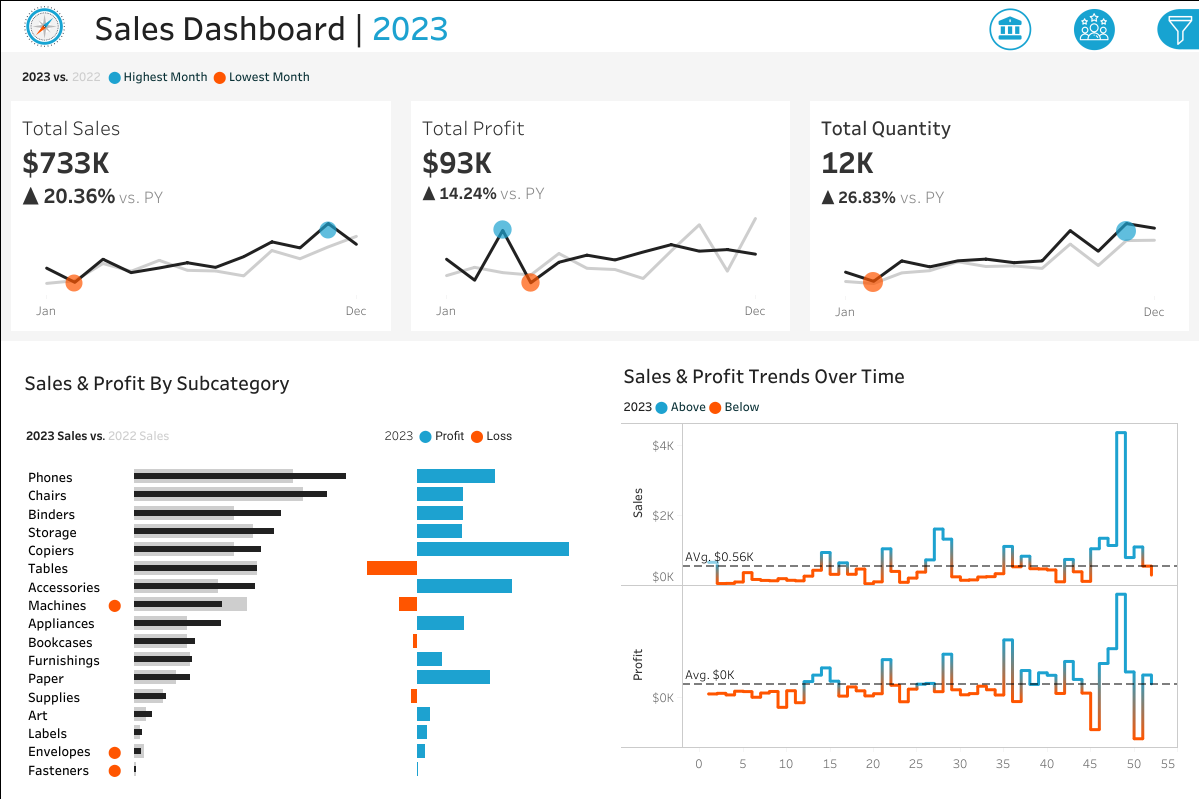

The page's visual inventory and layout, read from the dashboard file:
{"tool":"tableau","page":{"name":"Sales Dashboard","canvas":[1200,800],"ordinal":1},"visuals":[{"type":"image","param":"Image/Icon - Logo.png","box":[0,0,73,59]},{"type":"text","box":[73,0,820,59]},{"type":"dashboard-object","box":[940,6,91,70]},{"type":"dashboard-object","box":[1031,6,91,70]},{"type":"blank","box":[952,10,237,86]},{"type":"worksheet","title":"Legend KPI","mark":"Automatic","box":[0,59,1200,29]},{"type":"worksheet","title":"KPI Sales","mark":"Automatic","rows":["Calculation_721701895347843083"],"cols":["Order Date"],"box":[0,88,400,284]},{"type":"worksheet","title":"KPI Profit","mark":"Automatic","rows":["Min/Max Sales (copy)_237846410425847814"],"cols":["Order Date"],"box":[400,88,400,284]},{"type":"worksheet","title":"KPI Quantity","mark":"Automatic","rows":["Min/Max Sales (copy) (copy)_237846410425856007"],"cols":["Order Date"],"box":[800,88,400,284]},{"type":"text","box":[952,96,237,37]},{"type":"parameter","param":"[Parameters].[Parameter 1]","box":[952,133,237,55]},{"type":"text","box":[952,188,237,32]},{"type":"filter","title":"KPI Sales","param":"[federated.1kpxa041aiai2y1cl4pui1t4eju9].[none:Category:nk]","box":[952,220,237,57]},{"type":"filter","title":"KPI Sales","param":"[federated.1kpxa041aiai2y1cl4pui1t4eju9].[none:Sub-Category:nk]","box":[952,277,237,57]},{"type":"blank","box":[952,334,237,60]},{"type":"text","box":[17,389,566,40]},{"type":"text","box":[617,389,566,40]},{"type":"text","box":[952,394,237,32]},{"type":"filter","title":"KPI Sales","param":"[federated.1kpxa041aiai2y1cl4pui1t4eju9].[none:Region:nk]","box":[952,426,237,57]},{"type":"worksheet","title":"Legend Subcategory","mark":"Automatic","box":[17,429,374,32]},{"type":"text","box":[391,429,192,32]},{"type":"text","box":[617,429,566,29]},{"type":"worksheet","title":"Weekly Trends","mark":"Automatic","rows":["Calculation_721701895334993921","CY Sales (copy)_237846410424180736"],"cols":["Order Date"],"box":[617,458,566,325]},{"type":"worksheet","title":"Subcategory Comparison","mark":"Bar","rows":["Sub-Category","Calculation_2435040078806671369"],"cols":["CY Sales (copy)_721701895335804930","Calculation_721701895334993921","CY Sales (copy)_237846410424180736"],"box":[17,461,566,321.9]},{"type":"filter","title":"KPI Sales","param":"[federated.1kpxa041aiai2y1cl4pui1t4eju9].[none:State:nk]","box":[952,483,237,57]},{"type":"filter","title":"KPI Sales","param":"[federated.1kpxa041aiai2y1cl4pui1t4eju9].[none:City:nk]","box":[952,540,237,57]}]}

Visuals, with their boxes in screenshot pixels (x1, y1, x2, y2), scaled from the page's 1200x800 canvas onto the 1199x799 screenshot:
image: Rect(0, 0, 73, 59)
text: Rect(73, 0, 892, 59)
dashboard-object: Rect(939, 6, 1030, 76)
dashboard-object: Rect(1030, 6, 1121, 76)
blank: Rect(951, 10, 1188, 96)
"Legend KPI" worksheet: Rect(0, 59, 1198, 88)
"KPI Sales" worksheet: Rect(0, 88, 400, 372)
"KPI Profit" worksheet: Rect(400, 88, 799, 372)
"KPI Quantity" worksheet: Rect(799, 88, 1198, 372)
text: Rect(951, 96, 1188, 133)
parameter: Rect(951, 133, 1188, 188)
text: Rect(951, 188, 1188, 220)
"KPI Sales" filter: Rect(951, 220, 1188, 277)
"KPI Sales" filter: Rect(951, 277, 1188, 334)
blank: Rect(951, 334, 1188, 394)
text: Rect(17, 389, 583, 428)
text: Rect(616, 389, 1182, 428)
text: Rect(951, 394, 1188, 425)
"KPI Sales" filter: Rect(951, 425, 1188, 482)
"Legend Subcategory" worksheet: Rect(17, 428, 391, 460)
text: Rect(391, 428, 583, 460)
text: Rect(616, 428, 1182, 457)
"Weekly Trends" worksheet: Rect(616, 457, 1182, 782)
"Subcategory Comparison" worksheet (Bar marks): Rect(17, 460, 583, 782)
"KPI Sales" filter: Rect(951, 482, 1188, 539)
"KPI Sales" filter: Rect(951, 539, 1188, 596)
